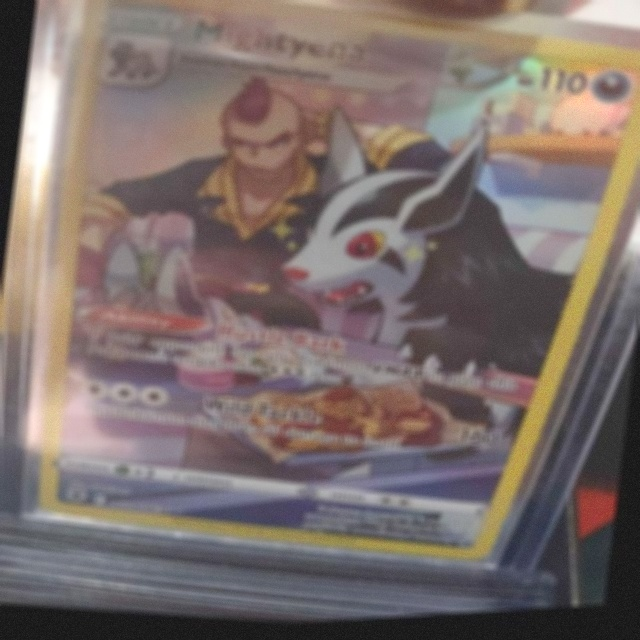card: (35, 0, 640, 568)
